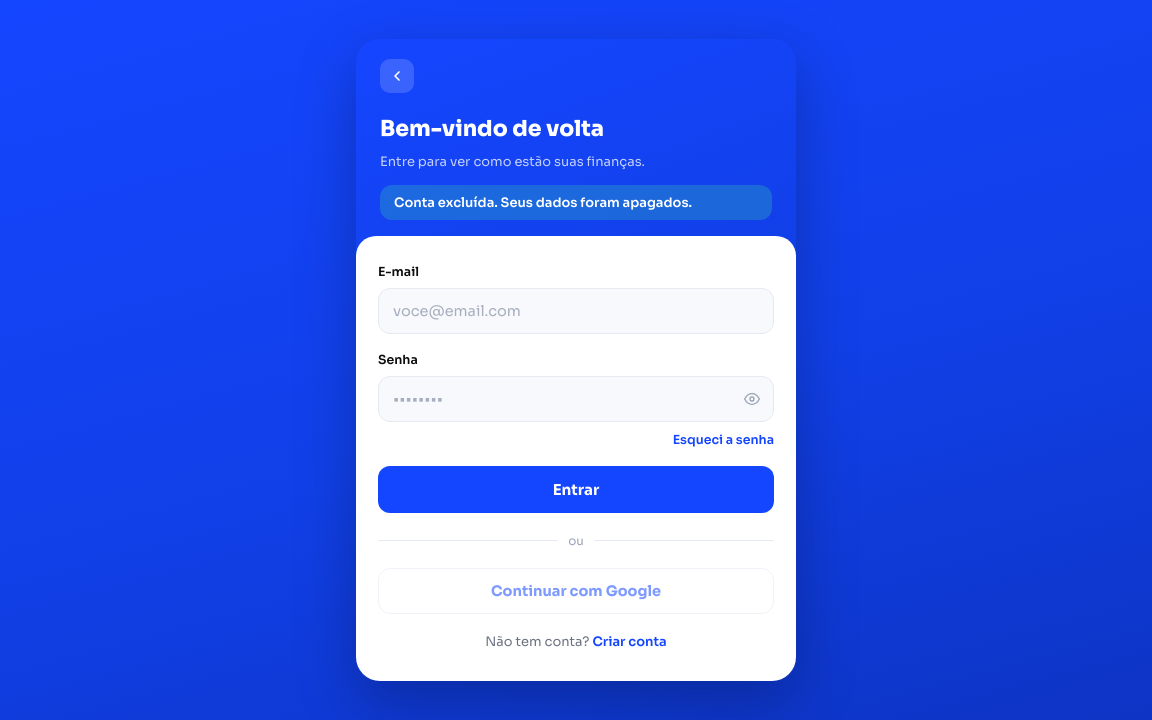
Test: Login — modo entrar › o aviso "Conta excluída" some quando a pessoa começa a digitar (não fica junto de um erro de login)
Check: the message "Conta excluída. Seus dados foram apagados." is shown, box 380,185 -> 772,220
Type "user@test.com" into the field labelled "E-mail" at {"x": 576, "y": 311}, box 378,288 -> 774,334
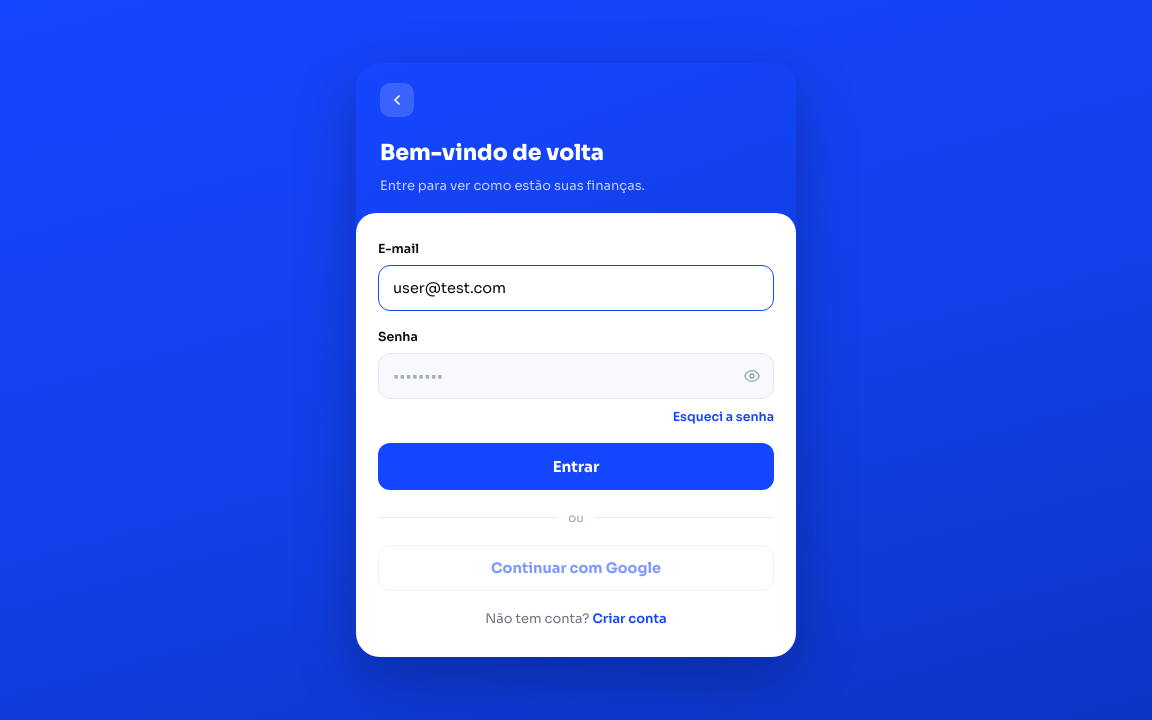
Check: the message "Conta excluída. Seus dados foram apagados." is gone
Type "Senha12345" into the password field labelled "Senha" at {"x": 576, "y": 376}, box 378,352 -> 774,398
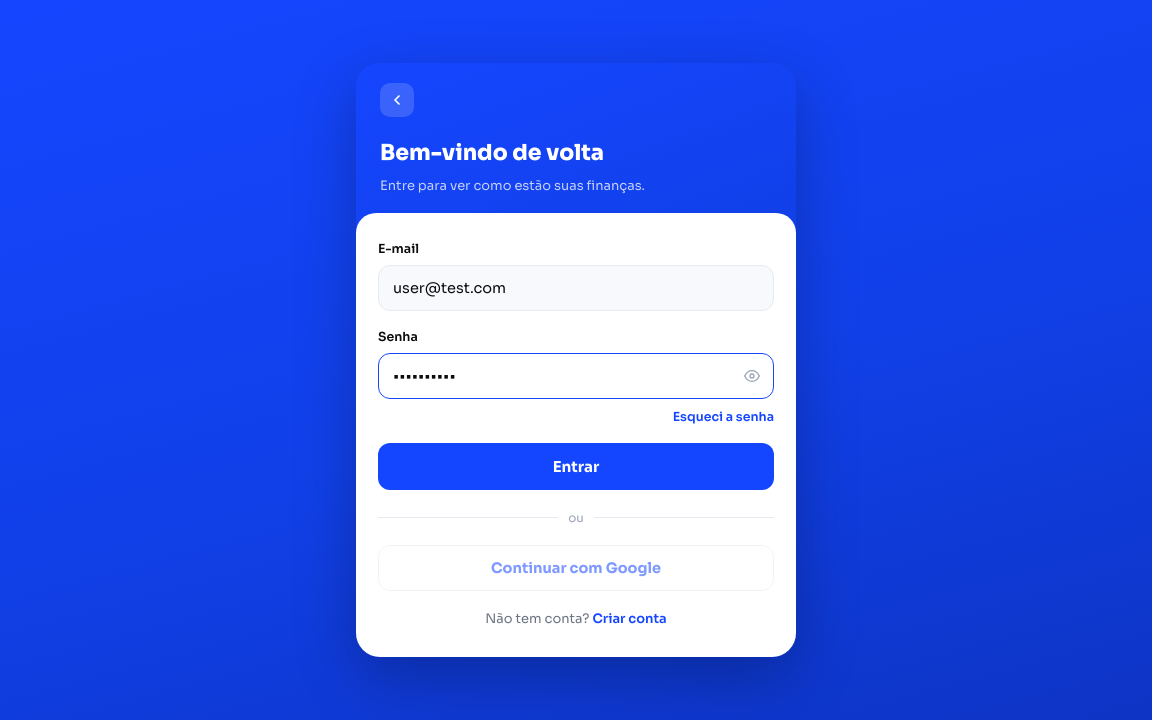
Click the button "Entrar" at {"x": 576, "y": 466}, box 378,442 -> 774,490
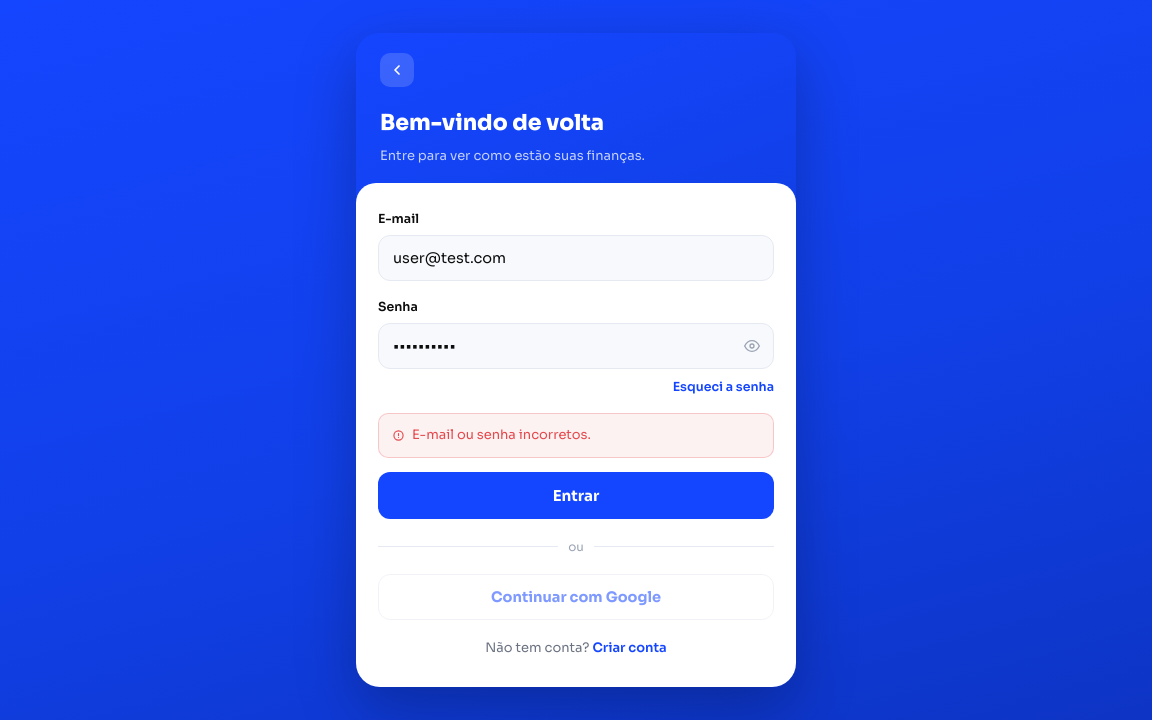
Check: the text "Conta excluída" is not shown
Check: the text "E-mail ou senha incorretos." is shown, box 378,413 -> 774,458
